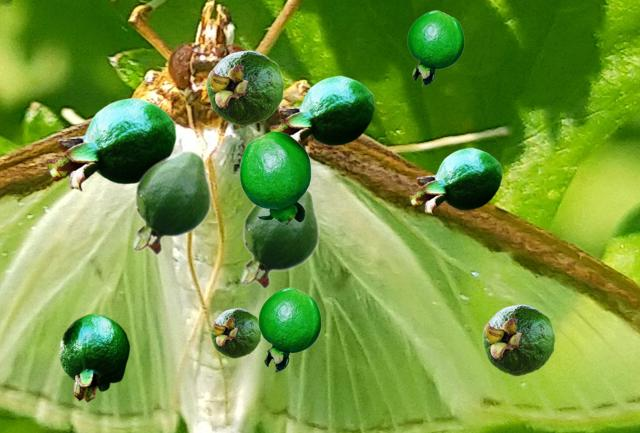guava: (46, 97, 175, 190), (132, 149, 210, 255), (240, 188, 318, 289), (269, 75, 374, 145), (239, 131, 310, 224), (408, 147, 501, 214), (59, 313, 129, 401), (206, 50, 283, 125), (258, 287, 320, 371), (482, 304, 554, 375), (407, 10, 463, 85), (210, 308, 260, 357)
